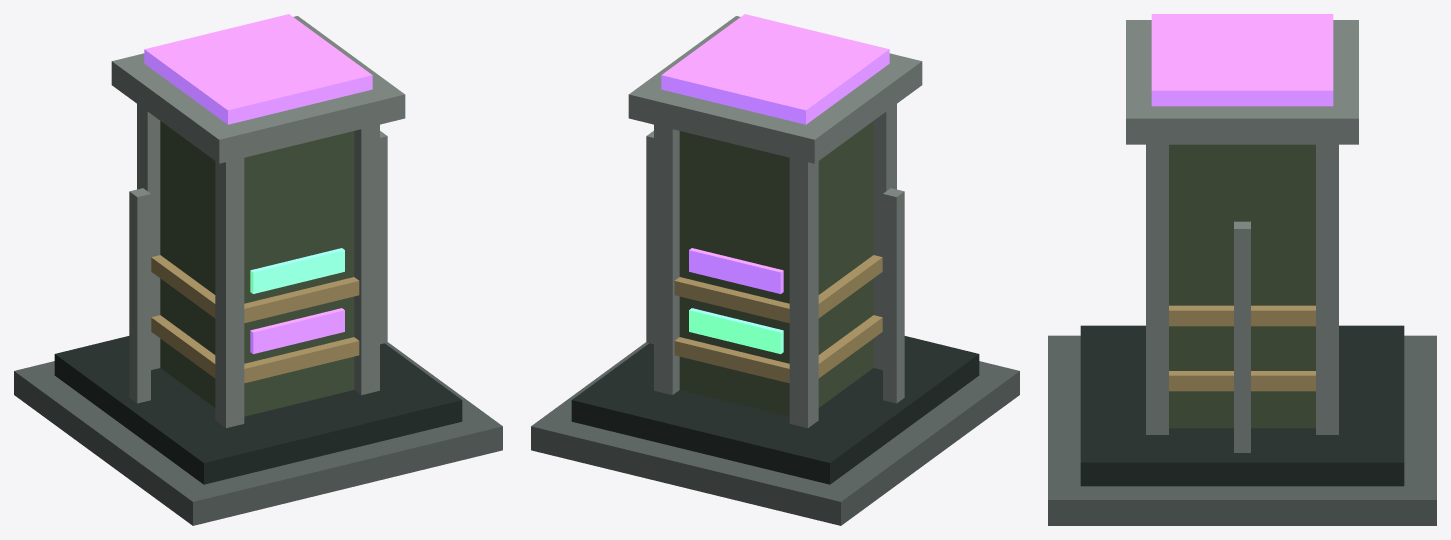
File: chronicle_beacon_l02.glb
The picture shows the model from 3 angles, left to right: view 1: azimuth 30°, elevation 25°; view 2: azimuth 150°, elevation 25°; view 3: azimuth 270°, elevation 25°; orthographic projection. The views are drawn at different scales.
Visible parts, largest first — view 1: chronicle_beacon_l02; view 2: chronicle_beacon_l02; view 3: chronicle_beacon_l02.
Boxes of the visible parts, <box> form: chronicle_beacon_l02: <box>14,14,502,525</box>; chronicle_beacon_l02: <box>531,14,1019,525</box>; chronicle_beacon_l02: <box>1048,14,1436,525</box>.
Bounding box in the file's own units: 2.7 × 3 × 2.7.
